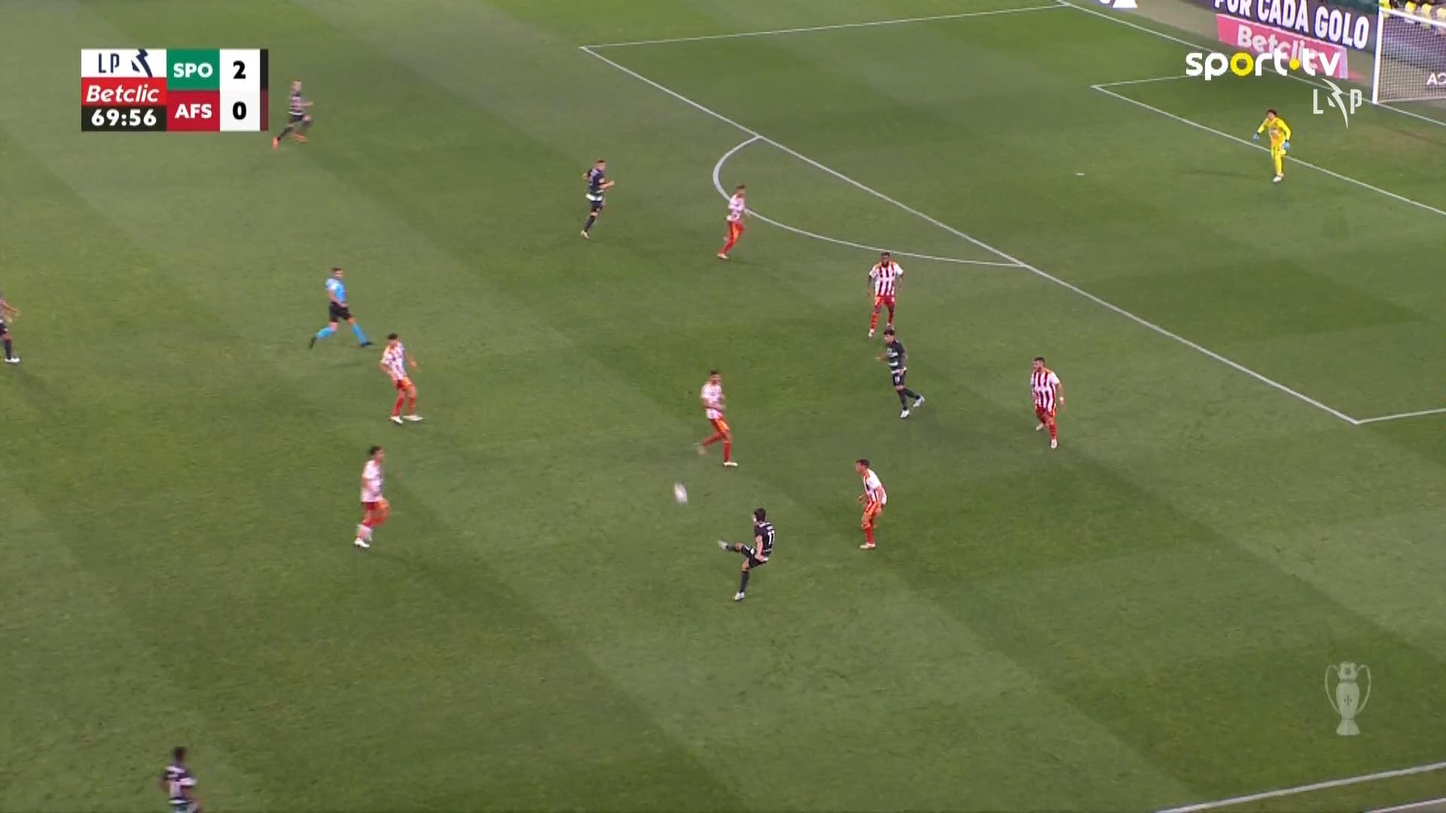ball: (673, 482, 688, 505), (1289, 57, 1300, 69)
goalkeeper: (1252, 108, 1292, 182)
player: (716, 507, 775, 601), (874, 327, 924, 419), (694, 369, 738, 467), (378, 332, 424, 424), (352, 444, 390, 548), (866, 250, 904, 338), (1029, 355, 1064, 449), (854, 458, 887, 549), (579, 157, 615, 239), (271, 79, 313, 149), (158, 744, 200, 811), (715, 183, 748, 260), (0, 291, 21, 364)
referee: (307, 266, 373, 350)
